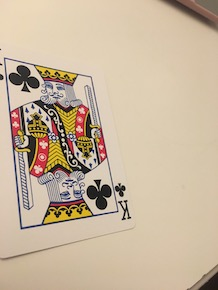KingOfClubs: (1, 26, 138, 263)
